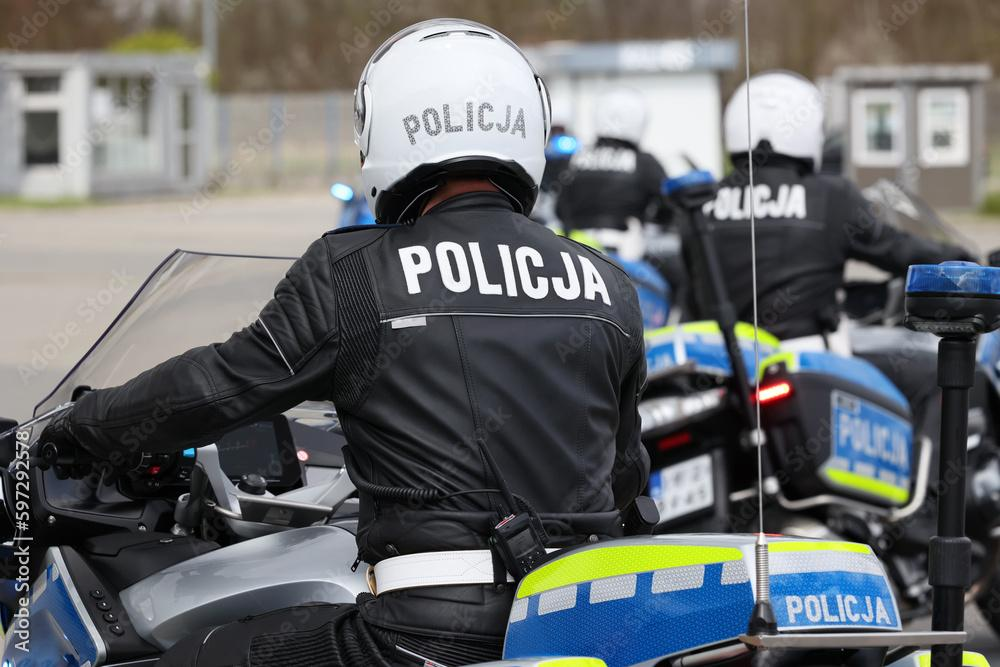helmet: (351, 15, 554, 227), (722, 68, 829, 177), (590, 85, 654, 151)
